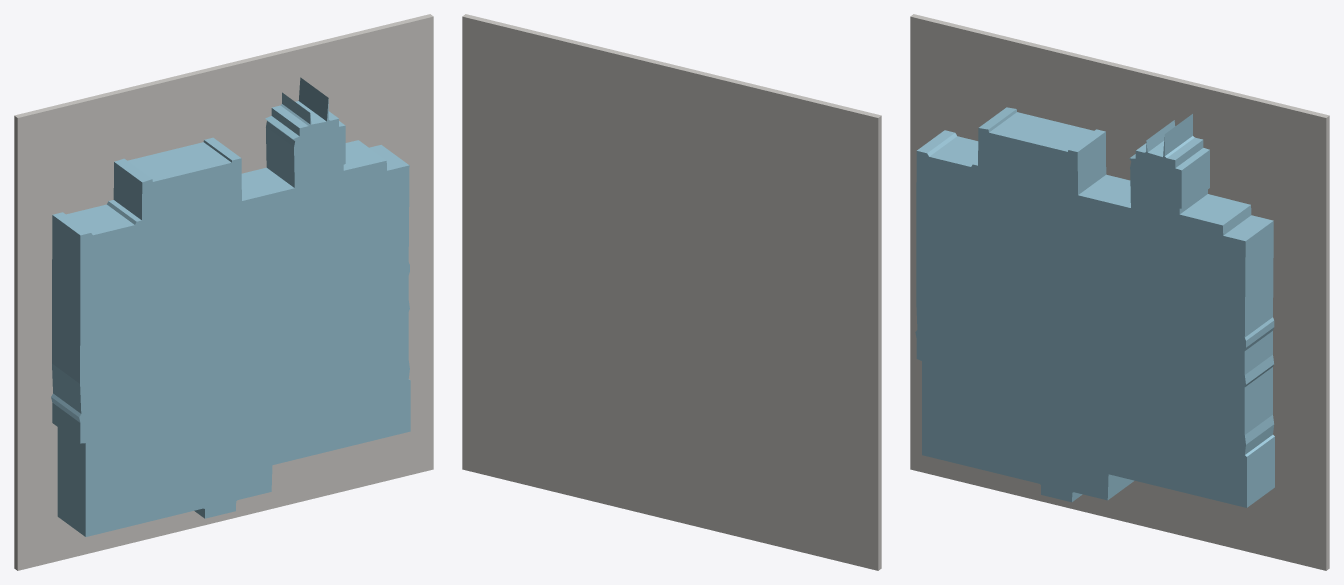
3 views of the same model, side by side, from view 1: azimuth 30°, elevation 25°; view 2: azimuth 150°, elevation 25°; view 3: azimuth 330°, elevation 25° (orthographic).
Visible parts, largest first — view 1: world; view 2: world; view 3: world.
Part boxes in pixels (box(x1,y1,x2,y2)): world: box(14, 14, 433, 570); world: box(462, 14, 881, 570); world: box(910, 14, 1329, 570).
Bounding box in the file's own units: 10.23 × 10.64 × 1.35.
